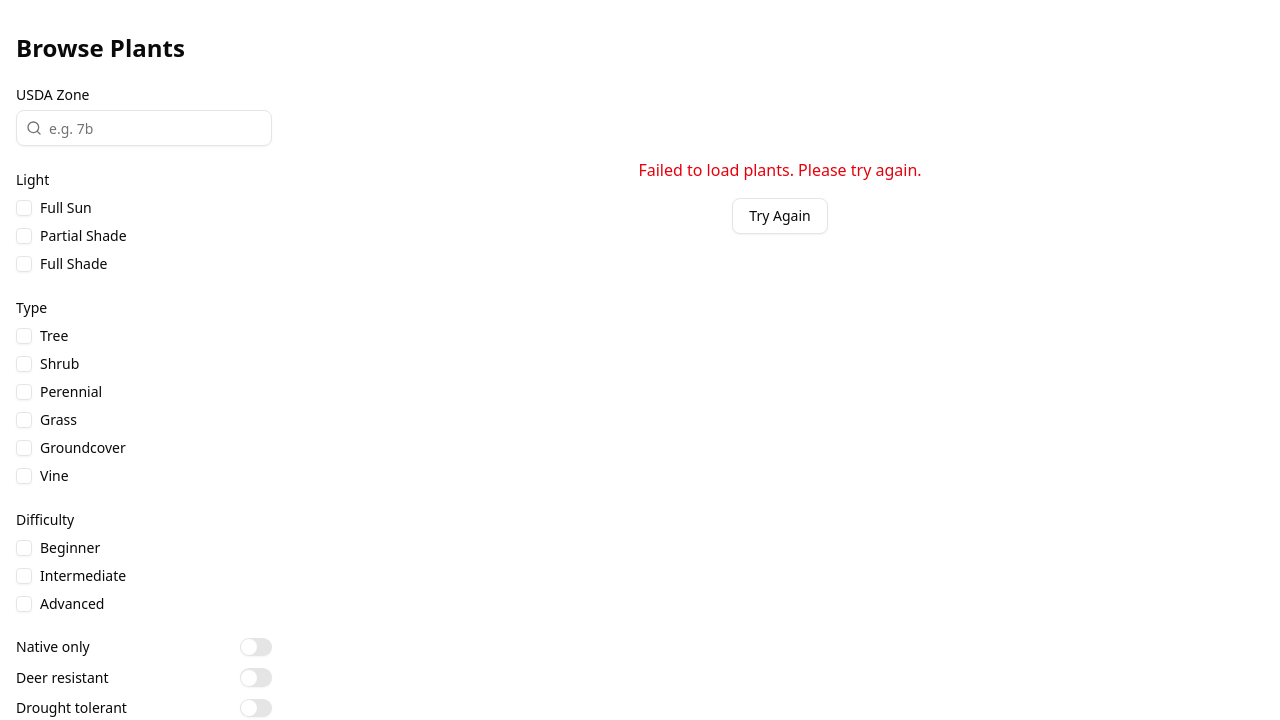
Test: PlantsPage › Error handling › retries fetch on try again click
Click the button "Try Again".
click(780, 216)  # box x1=732 y1=198 x2=828 y2=234
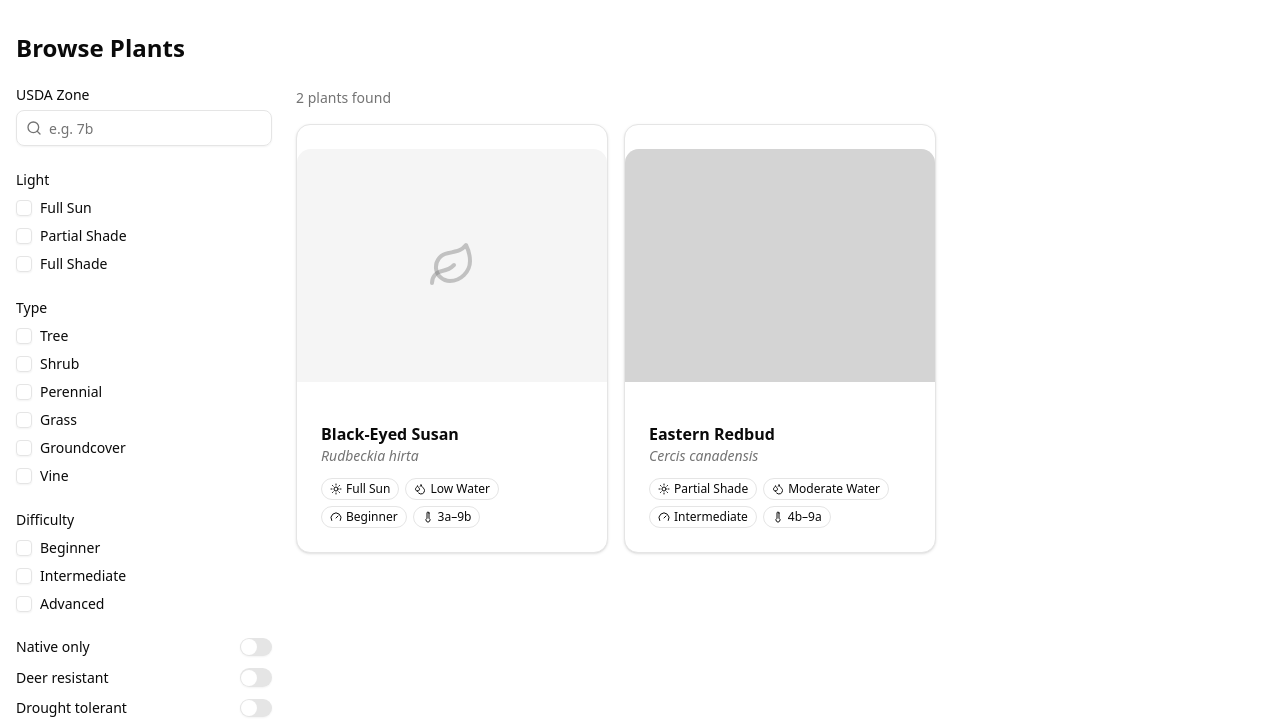
Expected: the heading "Black-Eyed Susan" is shown, x1=321 y1=422 x2=459 y2=444
